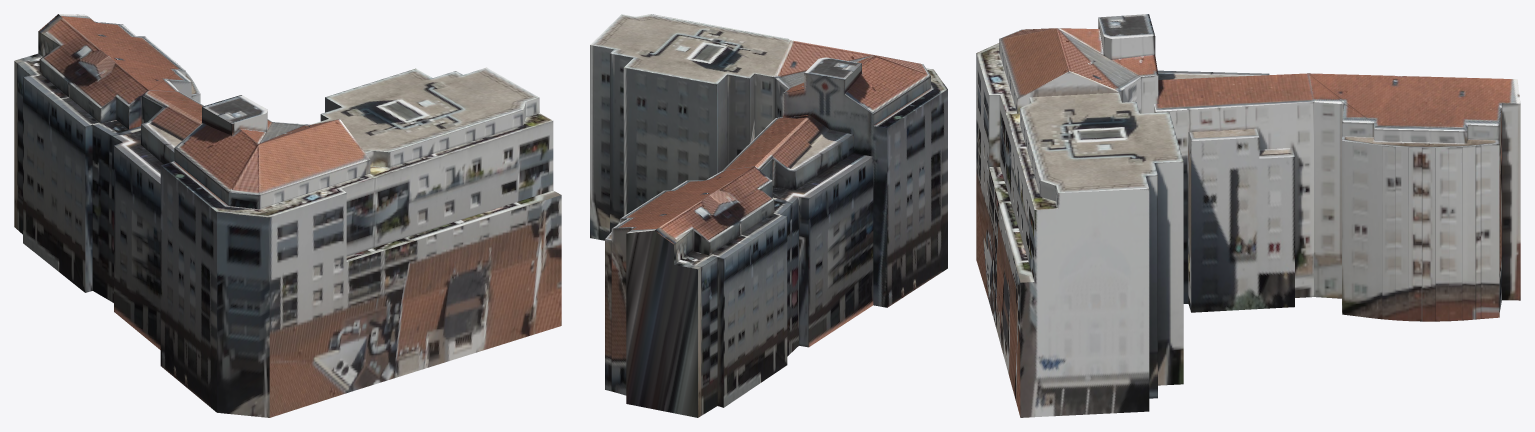
3 views of the same model, side by side, from view 1: azimuth 30°, elevation 25°; view 2: azimuth 150°, elevation 25°; view 3: azimuth 270°, elevation 25° (orthographic). The views are drawn at different scales.
Parts seen in each view (by area): view 1: Z_UP; view 2: Z_UP; view 3: Z_UP.
Boxes of the visible parts, x1,y1,x2,y2 form: Z_UP: (14, 14, 561, 417); Z_UP: (590, 14, 947, 417); Z_UP: (976, 14, 1520, 417).
Bounding box in the file's own units: 39.89 × 26.99 × 52.38.
2 materials, 1 textured.
